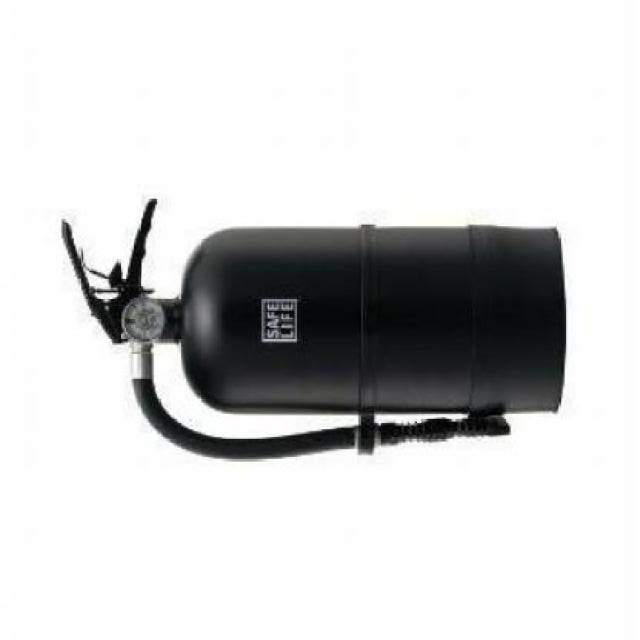fire extinguisher: (61, 198, 567, 462)
